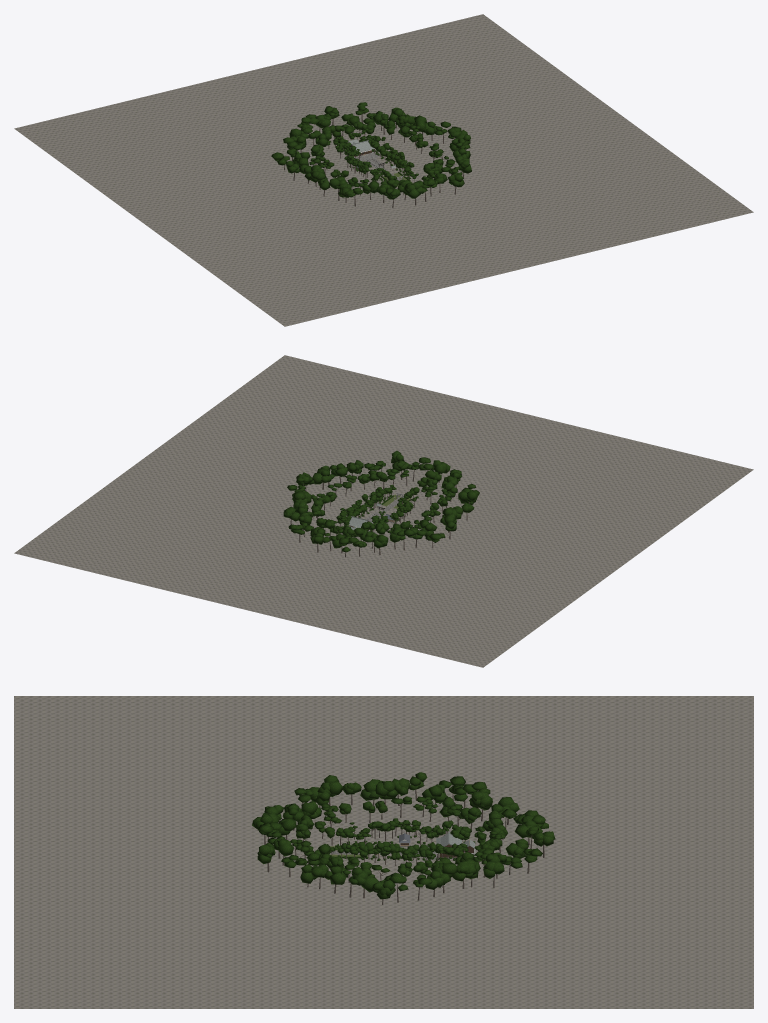
File: shoin.glb
The picture shows the model from 3 angles, top to bottom: view 1: azimuth 30°, elevation 25°; view 2: azimuth 150°, elevation 25°; view 3: azimuth 270°, elevation 25°; orthographic projection. The views are drawn at different scales.
Visible parts, largest first — view 1: Web_Ground, Web_Trees; view 2: Web_Ground, Web_Trees; view 3: Web_Ground, Web_Trees.
Boxes of the visible parts, <box> form: Web_Ground: <box>14,14,753,326</box>; Web_Trees: <box>284,114,463,207</box>; Web_Ground: <box>14,355,753,667</box>; Web_Trees: <box>290,469,469,557</box>; Web_Ground: <box>14,696,753,1008</box>; Web_Trees: <box>264,789,544,904</box>.
Bounding box in the file's own units: 500 × 23.8 × 500.
Materials: 18 (16 with a texture image).
